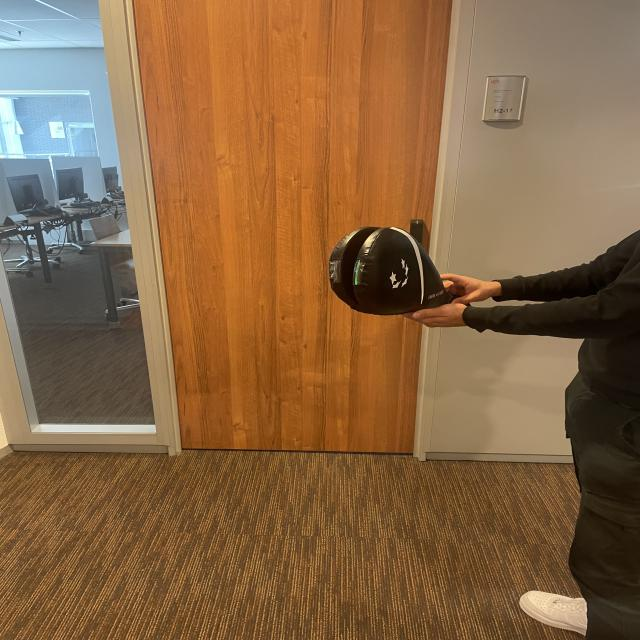paddle: (334, 226, 444, 317)
trigger: (350, 260, 365, 286)
